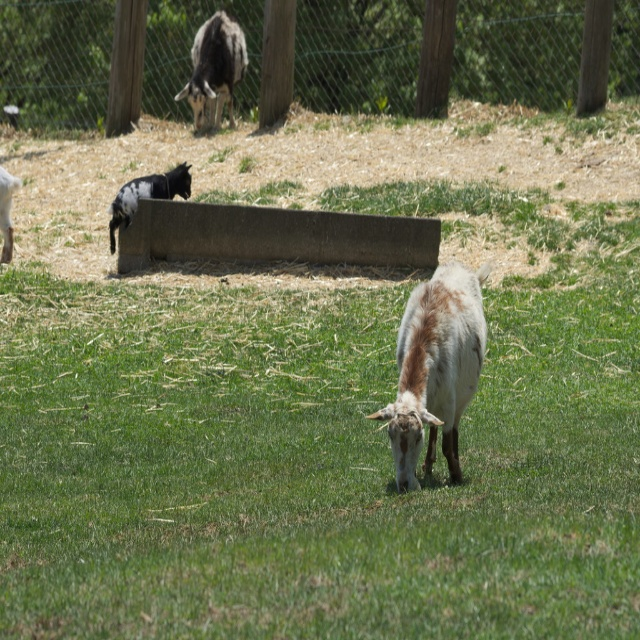Goat: (364, 274, 497, 500), (174, 11, 248, 132)
